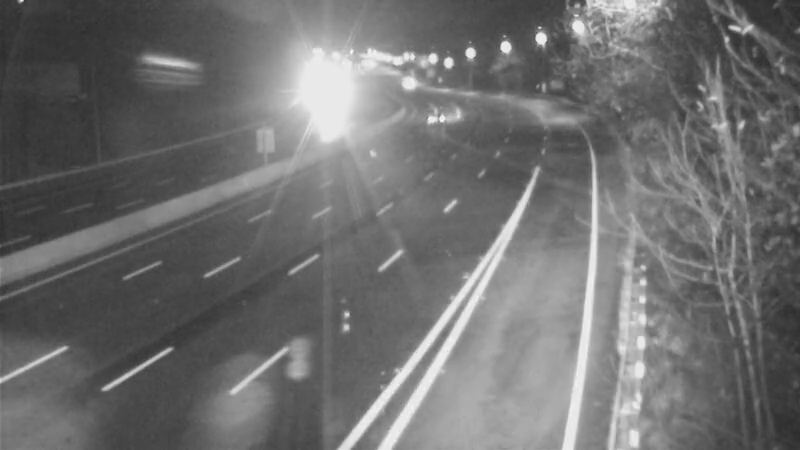vehicle: (377, 54, 427, 104), (411, 91, 461, 141), (300, 73, 350, 123)
